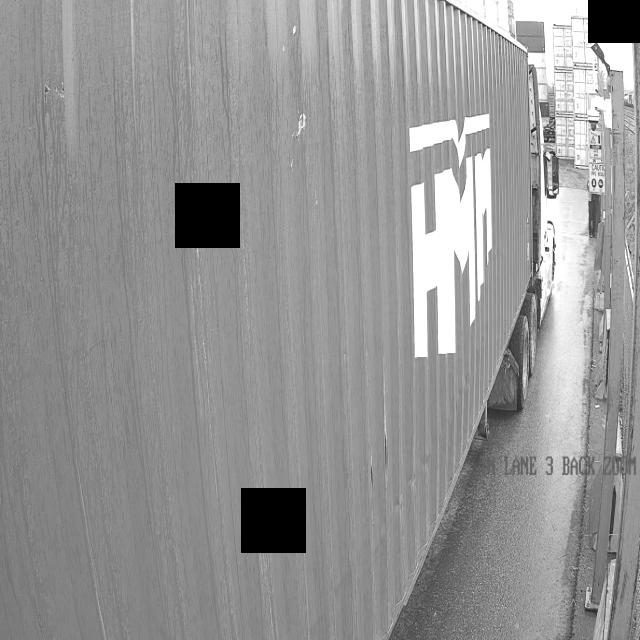container_company_logo: (374, 87, 543, 376)
truck_with_container: (0, 0, 546, 640)
